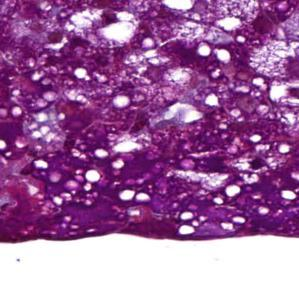ballooning: (64, 5, 141, 50), (249, 36, 297, 84)
